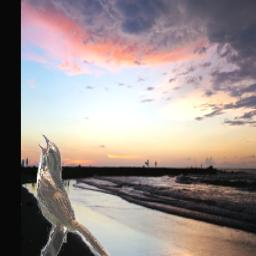Sparrow: (37, 132, 111, 256)
